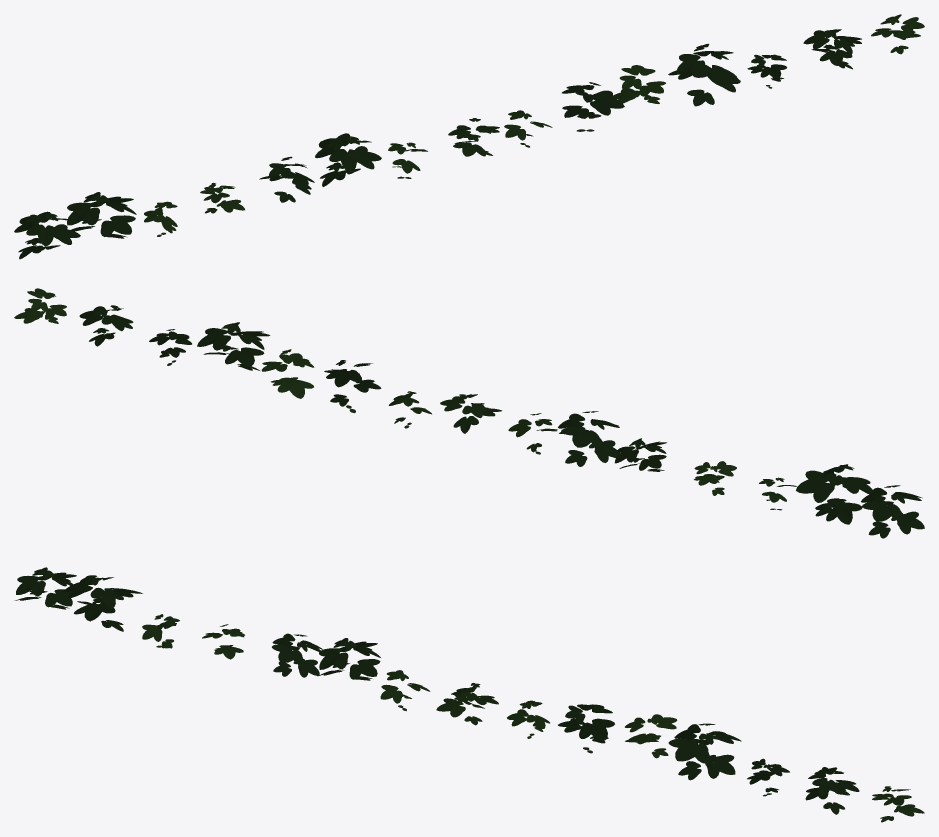
The model's file is ROW_13_SEG0_foliage.dae.
3 views of the same model, one above another, from view 1: azimuth 30°, elevation 25°; view 2: azimuth 150°, elevation 25°; view 3: azimuth 330°, elevation 25° (orthographic).
Visible parts, largest first — view 1: ROW_13_SEG0_foliage; view 2: ROW_13_SEG0_foliage; view 3: ROW_13_SEG0_foliage.
Part boxes in pixels (left/top/right/bottom): ROW_13_SEG0_foliage: left=14, top=14, right=924, bottom=259; ROW_13_SEG0_foliage: left=14, top=288, right=924, bottom=538; ROW_13_SEG0_foliage: left=14, top=567, right=924, bottom=822.
Size of the model in its own units: 4.54 by 0.3694 by 0.2861.
